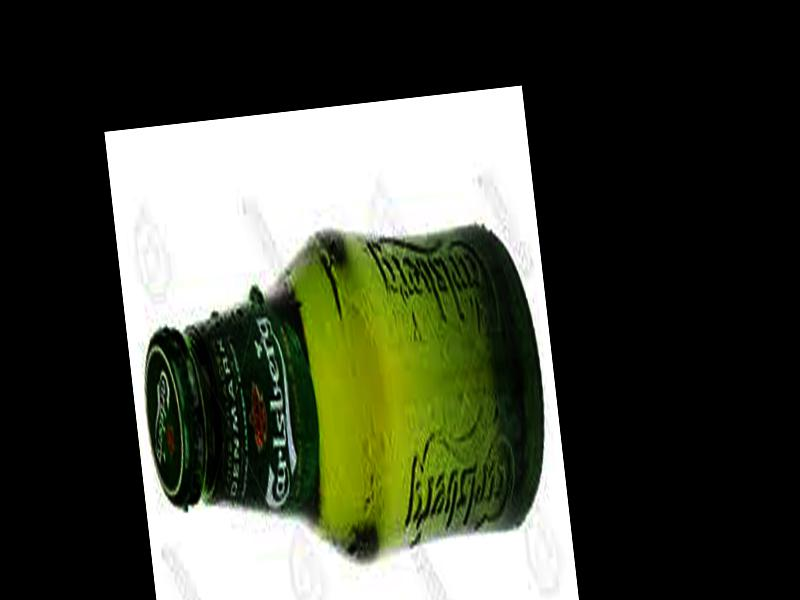Beer: (128, 212, 561, 586)
